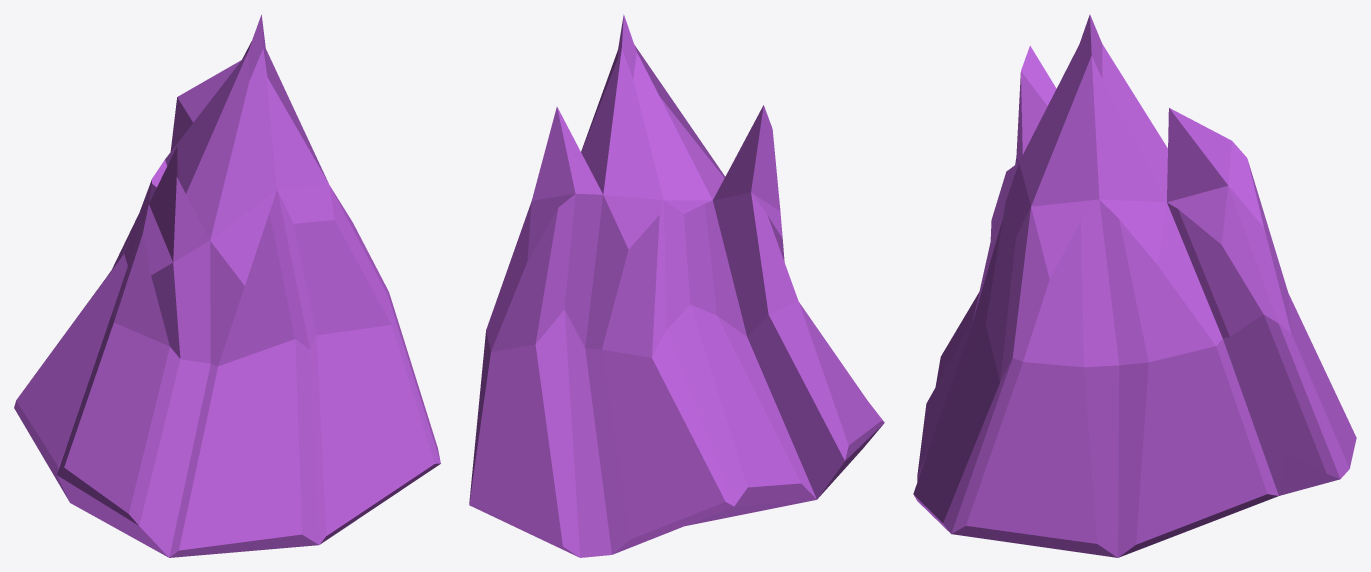
File: GemObstacle.fbx
3 renders of one model, left to right at view 1: azimuth 30°, elevation 25°; view 2: azimuth 150°, elevation 25°; view 3: azimuth 270°, elevation 25°, orthographic. The views are drawn at different scales.
Parts seen in each view (by area): view 1: Cube; view 2: Cube; view 3: Cube.
Boxes of the visible parts, <box> form: Cube: <box>14,14,440,557</box>; Cube: <box>469,14,884,557</box>; Cube: <box>913,14,1356,557</box>.
Bounding box in the file's own units: 260 × 373 × 282.
